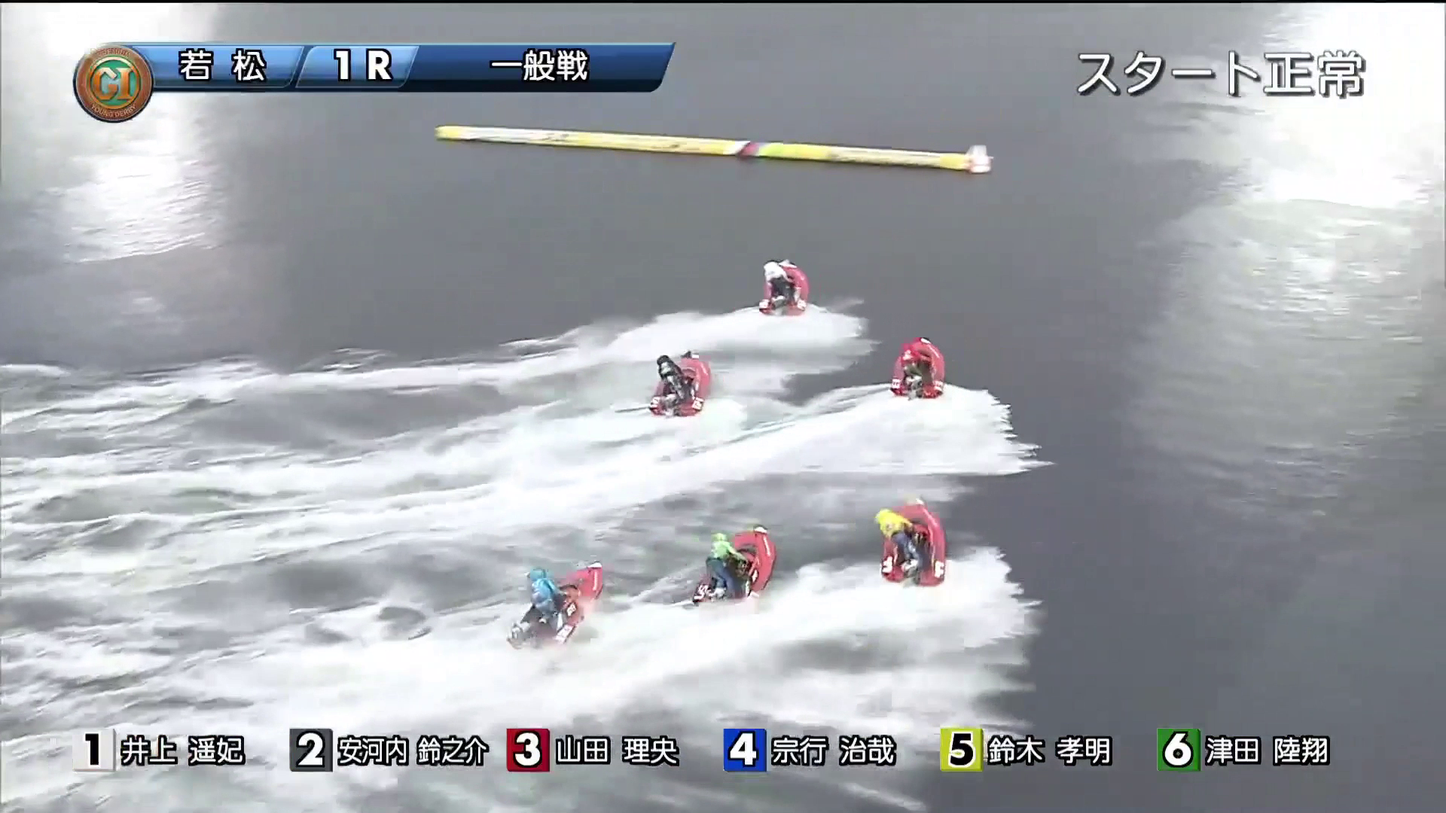１号艇: (737, 256, 807, 309)
２号艇: (626, 355, 755, 416)
３号艇: (860, 354, 958, 400)
４号艇: (649, 540, 783, 605)
５号艇: (459, 583, 583, 638)
６号艇: (867, 505, 966, 562)
